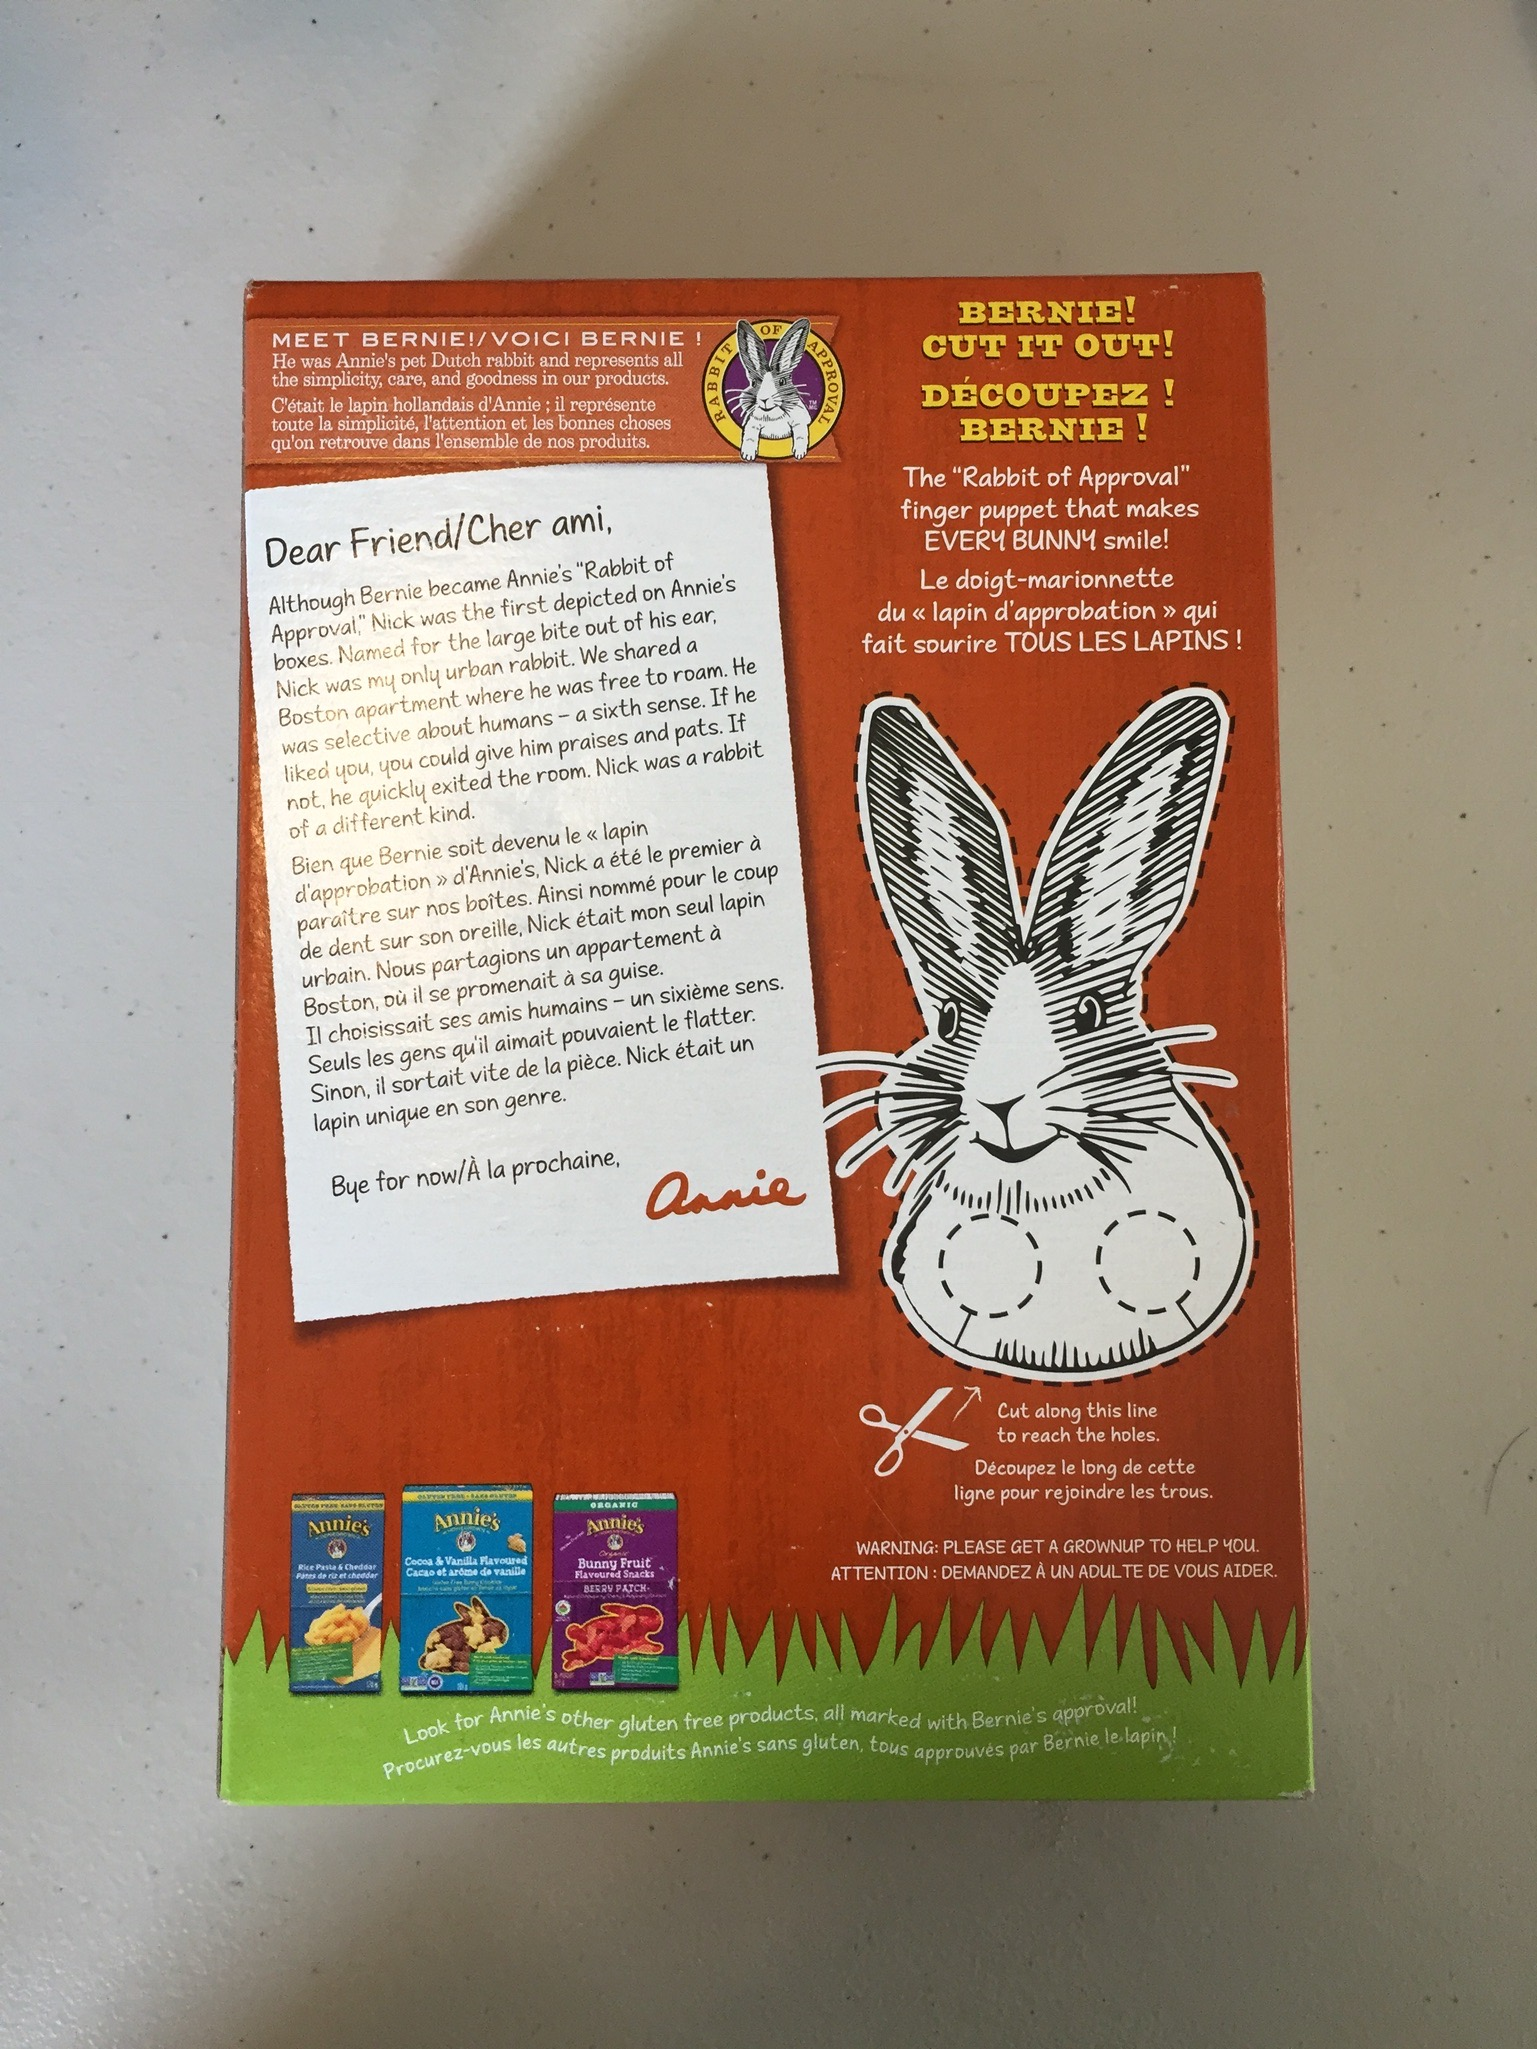annies_snickerdoodles_cinnamon_sugar: (252, 291, 1280, 1787)
